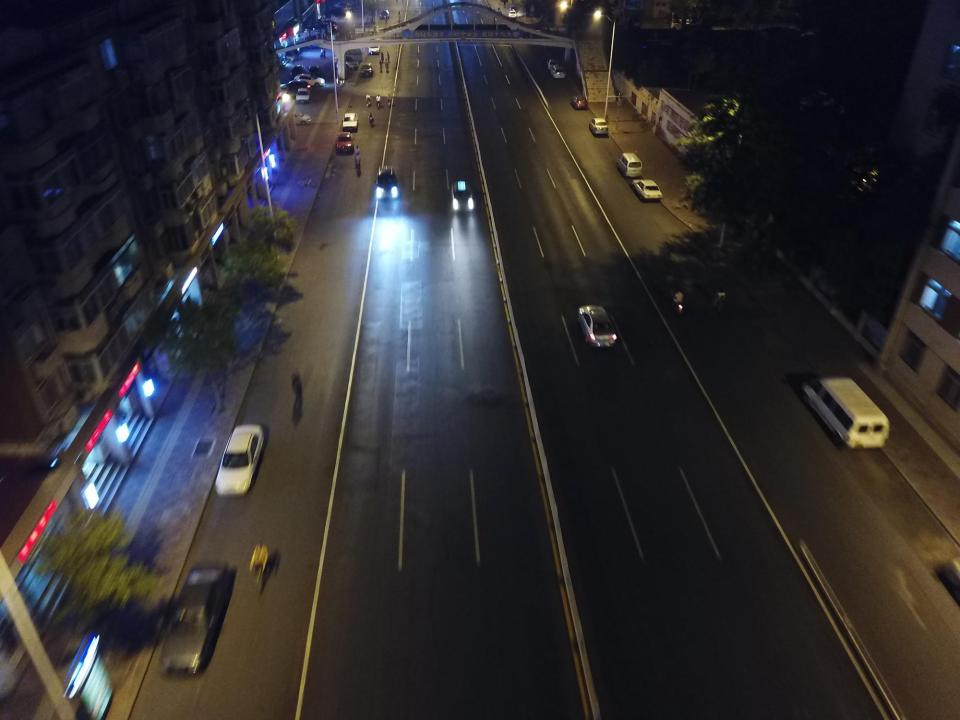car: (160, 560, 233, 677), (215, 424, 264, 494), (577, 305, 617, 347), (451, 181, 473, 212), (632, 179, 662, 201), (278, 109, 311, 126), (336, 132, 354, 153), (334, 55, 359, 70), (342, 112, 358, 131), (311, 23, 337, 33), (295, 88, 310, 103), (312, 22, 337, 31), (290, 65, 307, 78), (368, 37, 380, 55), (317, 19, 337, 26), (332, 2, 350, 9), (379, 10, 389, 19)
van: (801, 377, 889, 451), (374, 166, 398, 199), (616, 152, 642, 178), (294, 73, 325, 87), (279, 80, 310, 92), (589, 117, 608, 134), (571, 95, 588, 109), (360, 62, 374, 77), (551, 65, 565, 78), (307, 65, 321, 77), (335, 4, 352, 11), (547, 59, 558, 69), (508, 10, 517, 18)
